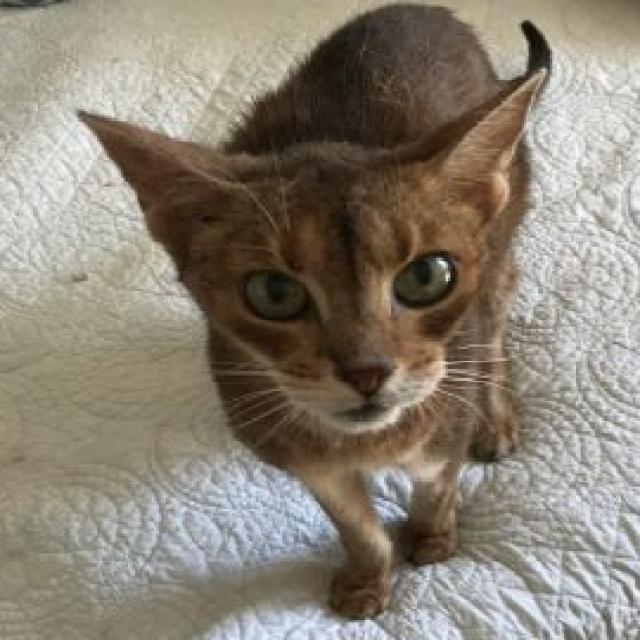Abyssinian: (67, 0, 560, 618)
